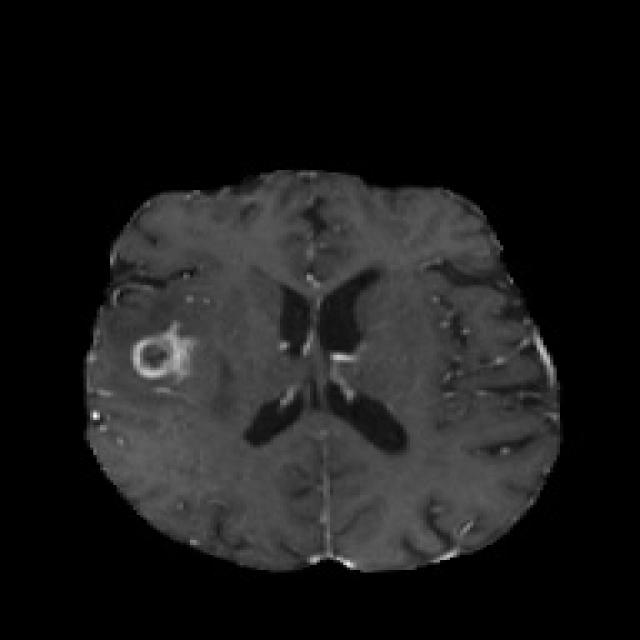positive: (125, 331, 188, 381)
